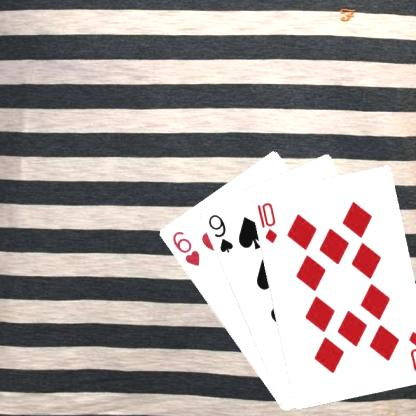10D: (254, 199, 278, 244), (405, 328, 416, 374)
6H: (169, 228, 201, 268)
9S: (205, 211, 234, 255)
